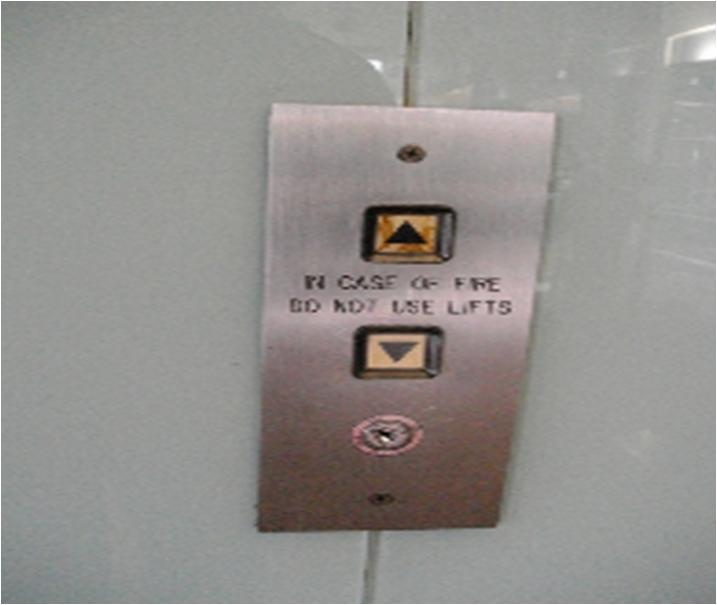down: (350, 323, 444, 382)
keyhole: (346, 411, 426, 457)
up: (357, 203, 457, 267)
